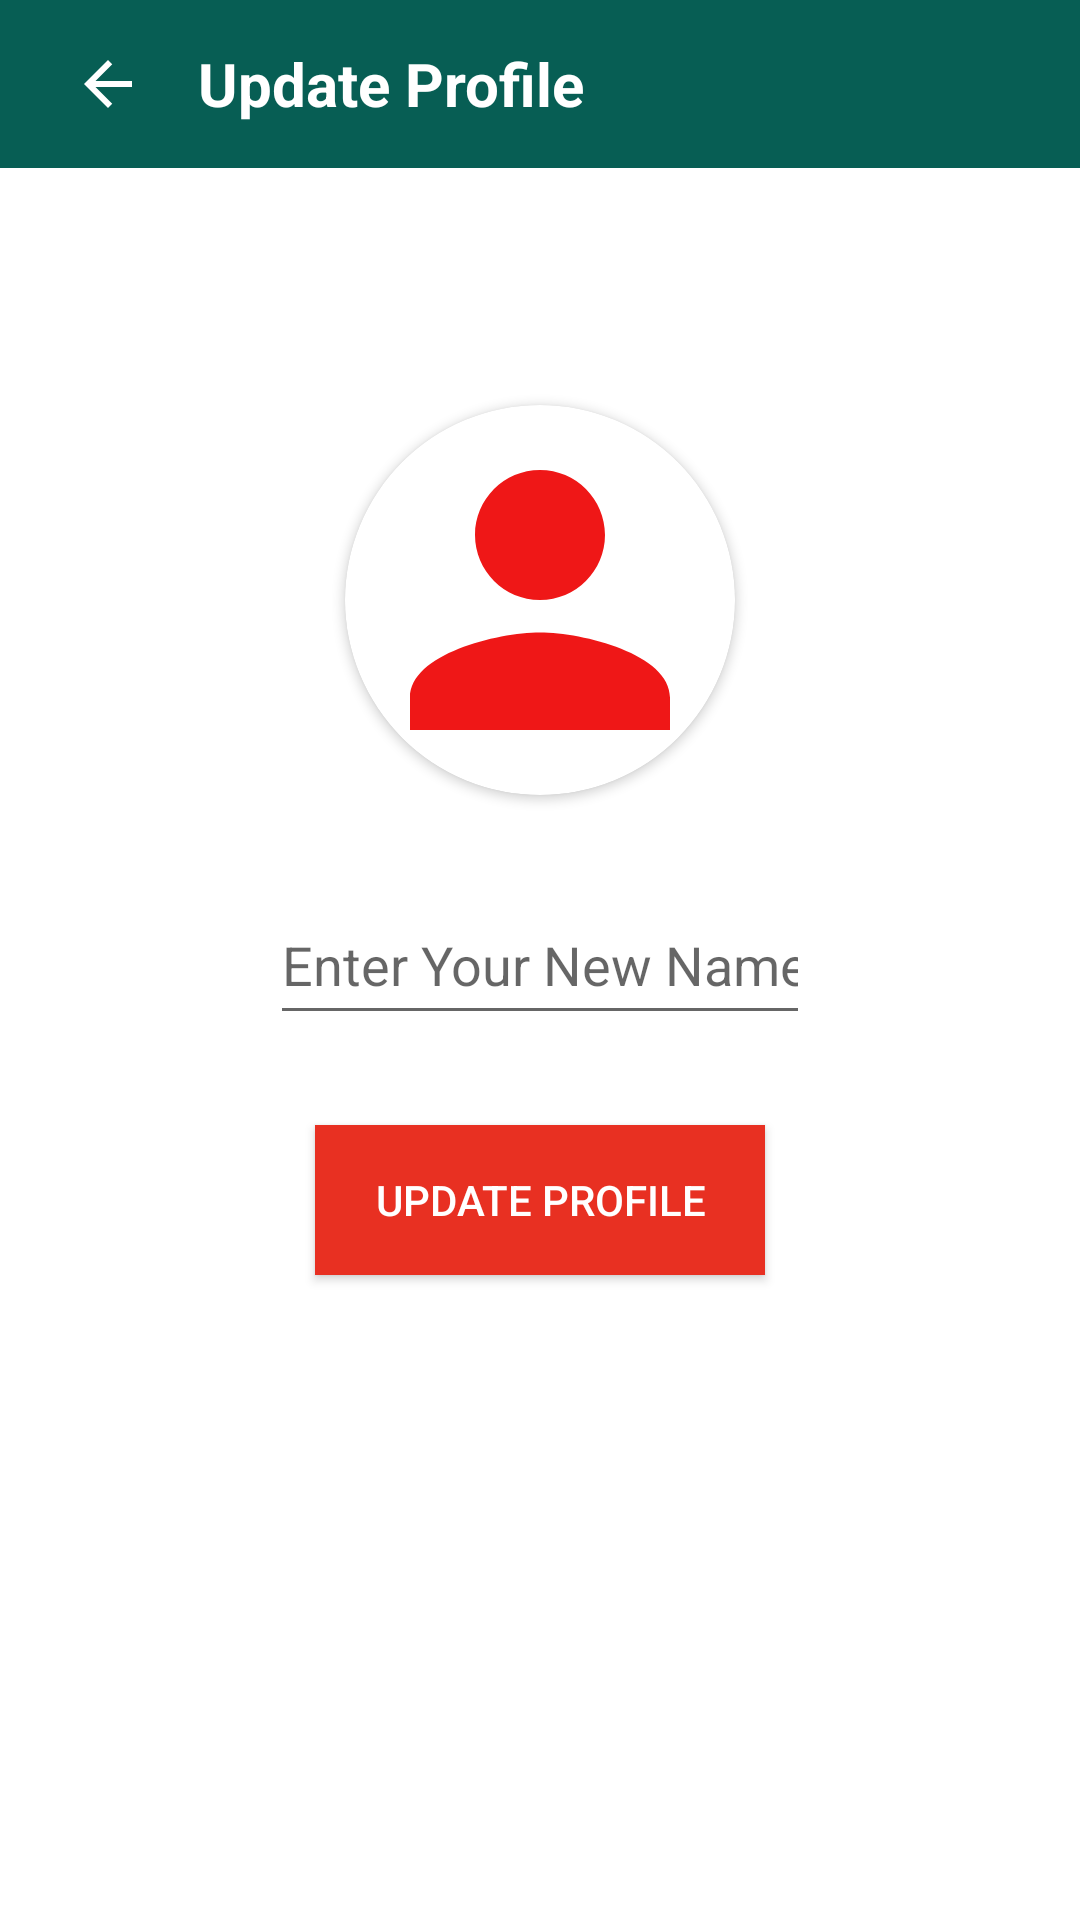

Icon click points for this 1080w x 1920h phone screenshot, format (x=x, y=y):
arrow back: (x=108, y=84)
